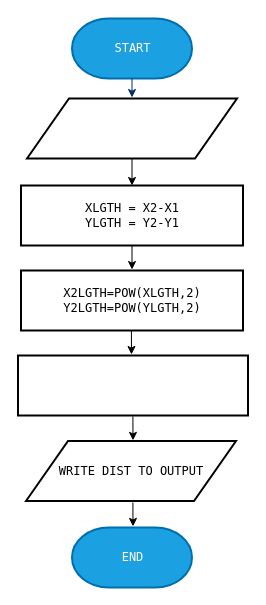
Some shapes in this 266 by 605 pixel diagram are drawn without their labels. Each missing label, with the box of its shape:
DIST=SQRT(X2LGTH+Y2LGTH): (16, 354, 248, 416)
READ X1, Y1, X2, Y2: (26, 97, 238, 159)
